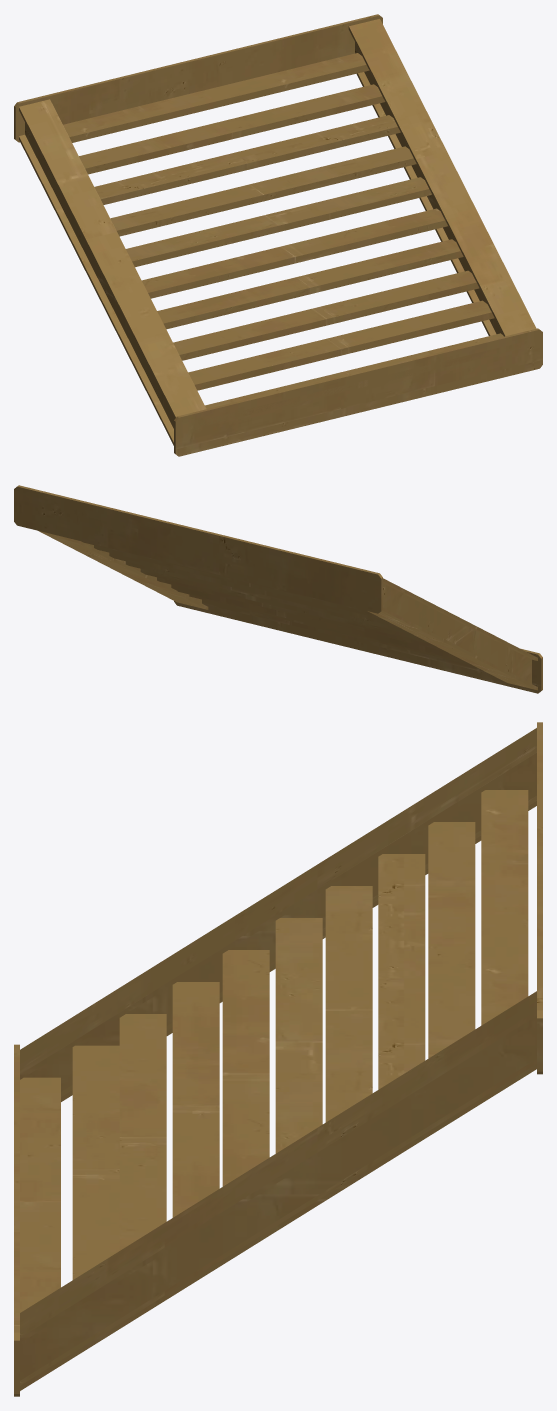
3 views of the same model, one above another, from view 1: azimuth 30°, elevation 25°; view 2: azimuth 150°, elevation 25°; view 3: azimuth 270°, elevation 25° (orthographic). The views are drawn at different scales.
Visible parts, largest first — view 1: body0_model0_lod0_mesh0; view 2: body0_model0_lod0_mesh0; view 3: body0_model0_lod0_mesh0.
Boxes of the visible parts, box(x1,y1,x2,y2) form: body0_model0_lod0_mesh0: box(14, 14, 542, 456); body0_model0_lod0_mesh0: box(14, 485, 542, 693); body0_model0_lod0_mesh0: box(14, 722, 542, 1396).
Bounding box in the file's own units: 236 × 145 × 180.
Materials: 1 (1 with a texture image).
